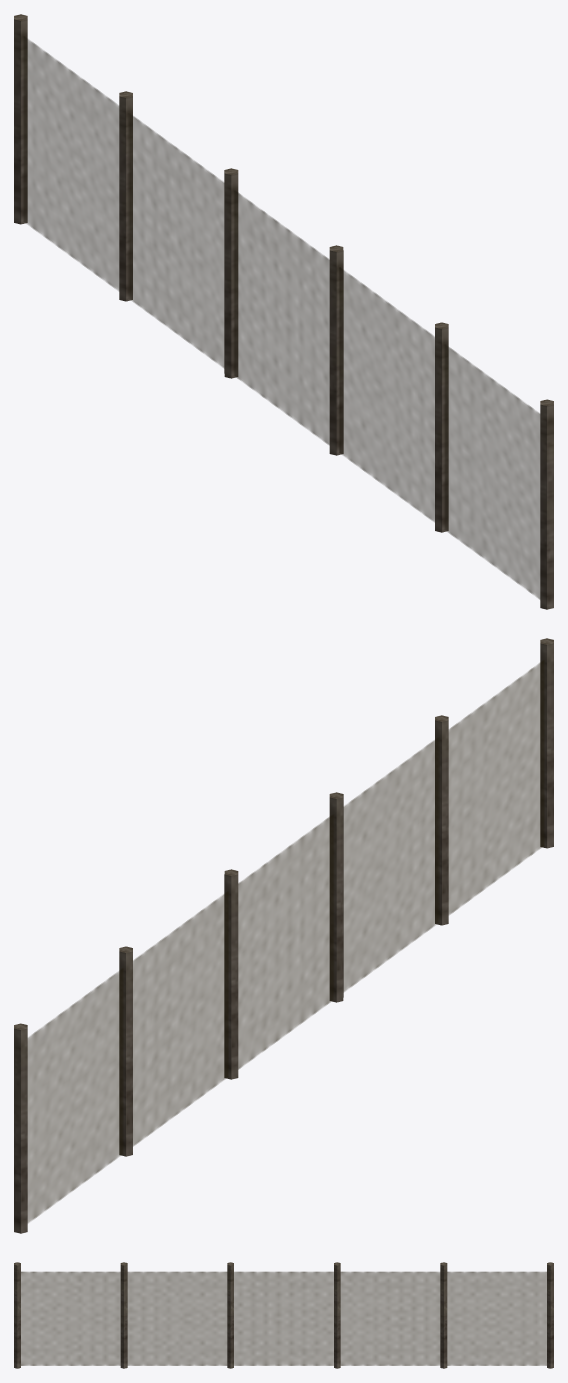
File: luoi.glb
3 views of the same model, one above another, from view 1: azimuth 30°, elevation 25°; view 2: azimuth 150°, elevation 25°; view 3: azimuth 270°, elevation 25° (orthographic). The views are drawn at different scales.
Visible parts, largest first — view 1: RedesPesca; view 2: RedesPesca; view 3: RedesPesca.
Part boxes in pixels (x1=…): RedesPesca: x1=14, y1=14, x2=553, y2=609; RedesPesca: x1=14, y1=638, x2=553, y2=1233; RedesPesca: x1=14, y1=1262, x2=553, y2=1368.
Size of the model in its own units: 0.0149 by 0.2107 by 1.
Materials: 2 (2 with a texture image).
